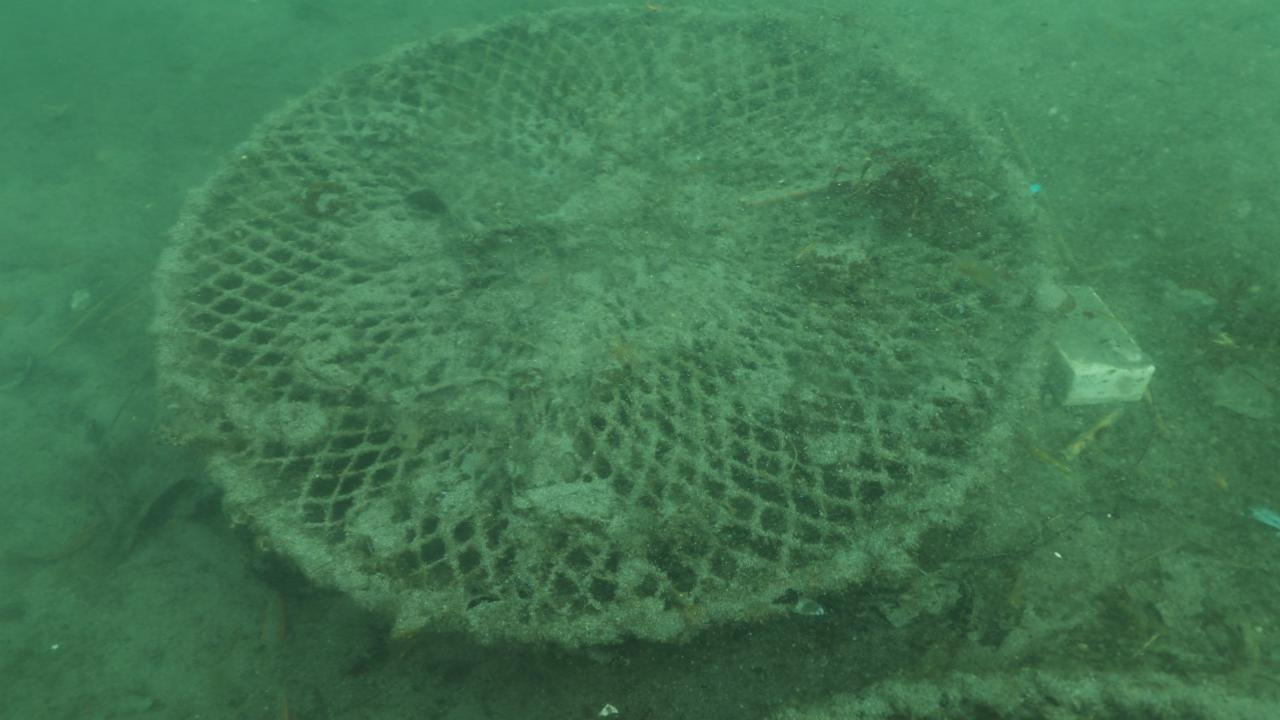circular fish trap: (150, 1, 1067, 658)
